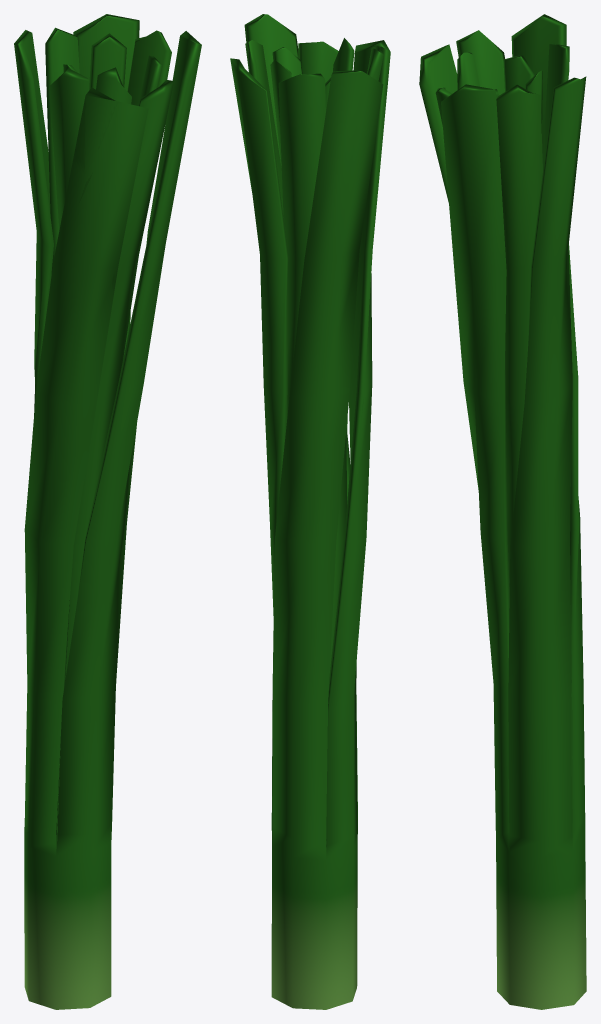
File: greenonion_cut.fbx
3 views of the same model, side by side, from view 1: azimuth 30°, elevation 25°; view 2: azimuth 150°, elevation 25°; view 3: azimuth 270°, elevation 25° (orthographic). The views are drawn at different scales.
Visible parts, largest first — view 1: GreenOnion.005; view 2: GreenOnion.005; view 3: GreenOnion.005.
Part boxes in pixels (bbox=[...]): GreenOnion.005: bbox=[14, 14, 201, 1009]; GreenOnion.005: bbox=[230, 14, 390, 1009]; GreenOnion.005: bbox=[419, 14, 586, 1009].
Size of the model in its own units: 70.38 by 428 by 68.2.
